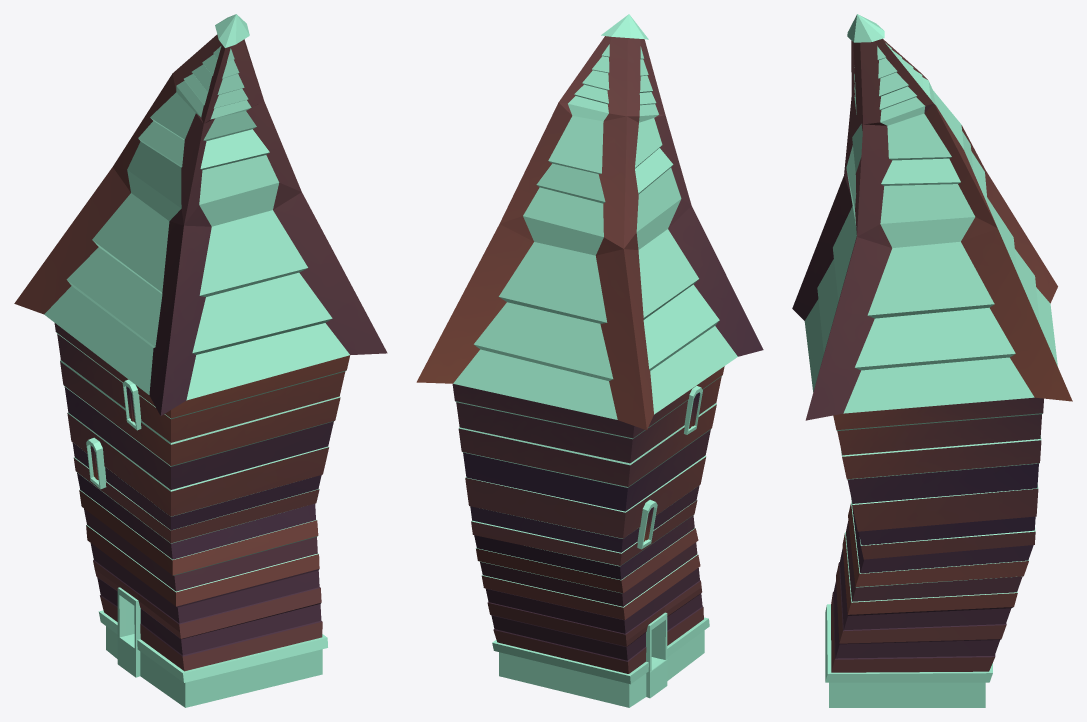
The model's file is House_Birdhouse06.fbx.
3 views of the same model, side by side, from view 1: azimuth 30°, elevation 25°; view 2: azimuth 150°, elevation 25°; view 3: azimuth 270°, elevation 25° (orthographic). The views are drawn at different scales.
Visible parts, largest first — view 1: Cube.004; view 2: Cube.004; view 3: Cube.004.
Part boxes in pixels (box(x1,y1,x2,y2)): Cube.004: box(14, 14, 387, 707); Cube.004: box(416, 14, 763, 707); Cube.004: box(792, 14, 1072, 707).
Size of the model in its own units: 703 by 1829 by 705.
